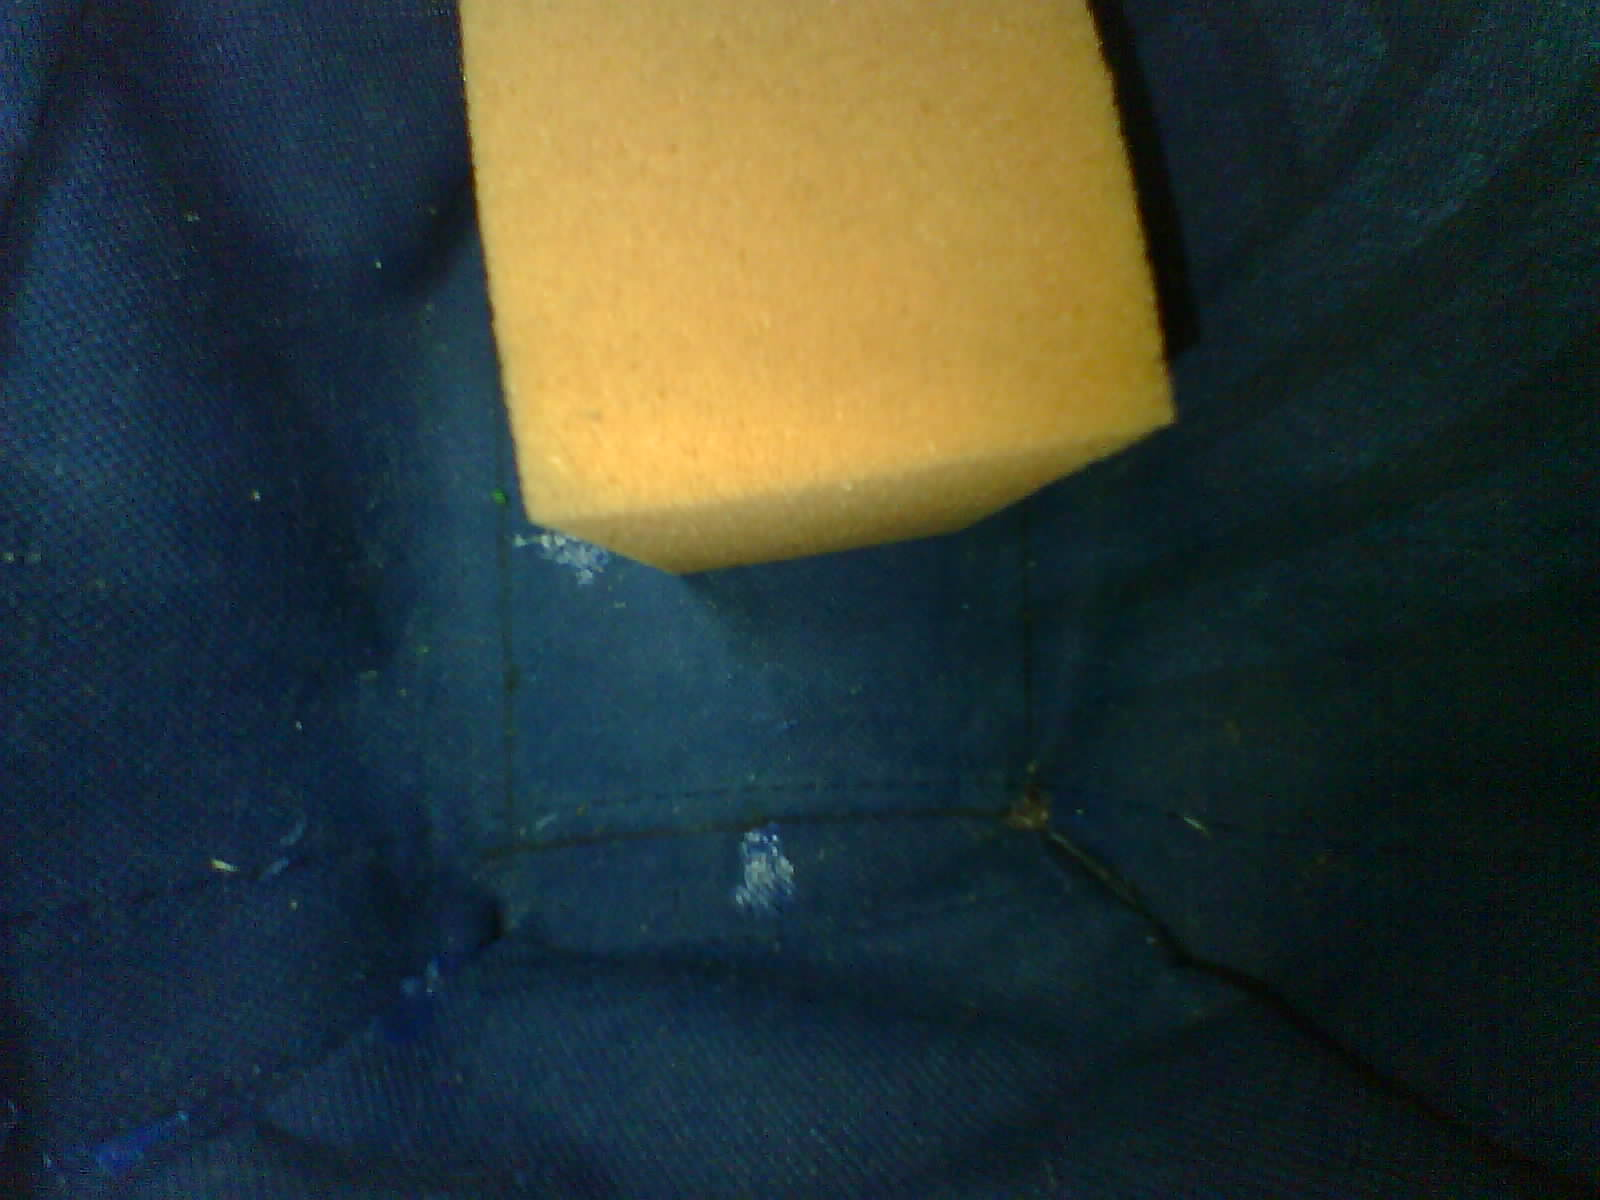cube-soft: (440, 0, 1187, 596)
